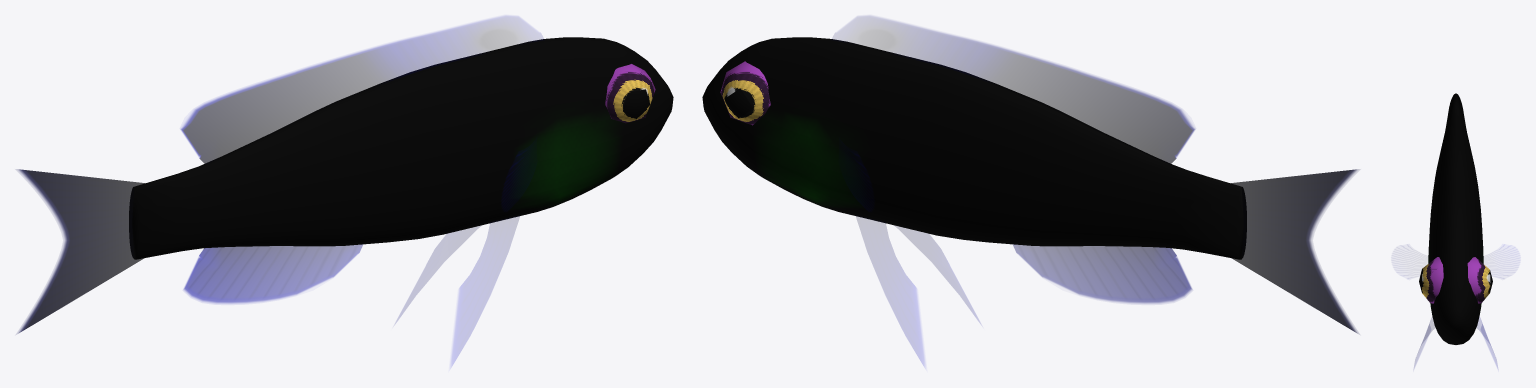
Rendered from royal_gramma_lod1.glb.
3 renders of one model, left to right at view 1: azimuth 30°, elevation 25°; view 2: azimuth 150°, elevation 25°; view 3: azimuth 270°, elevation 25°, orthographic. The views are drawn at different scales.
Parts seen in each view (by area): view 1: Body, FinDorsal, FinCaudal, FinAnal, FinPelvicR, EyeR, FinPelvicL; view 2: Body, FinDorsal, FinCaudal, FinAnal, FinPelvicL, EyeL, FinPelvicR; view 3: Body, EyeL, EyeR, FinPelvicL, FinPelvicR.
Part boxes in pixels (left/top/right/bottom): Body: left=129, top=37, right=673, bottom=259; FinDorsal: left=180, top=16, right=543, bottom=164; FinCaudal: left=16, top=169, right=145, bottom=333; FinAnal: left=183, top=244, right=362, bottom=303; FinPelvicR: left=451, top=216, right=519, bottom=365; EyeR: left=605, top=64, right=655, bottom=123; FinPelvicL: left=395, top=226, right=480, bottom=323; Body: left=702, top=37, right=1246, bottom=259; FinDorsal: left=832, top=16, right=1195, bottom=164; FinCaudal: left=1230, top=169, right=1359, bottom=333; FinAnal: left=1013, top=244, right=1192, bottom=303; FinPelvicL: left=856, top=216, right=924, bottom=365; EyeL: left=720, top=61, right=770, bottom=125; FinPelvicR: left=895, top=226, right=980, bottom=323; Body: left=1428, top=93, right=1483, bottom=344; EyeL: left=1467, top=257, right=1492, bottom=303; EyeR: left=1419, top=257, right=1443, bottom=303; FinPelvicL: left=1477, top=317, right=1497, bottom=367; FinPelvicR: left=1414, top=318, right=1434, bottom=367.
Bounding box in the file's own units: 1 × 0.4614 × 0.2304.
4 materials, 3 textured.
